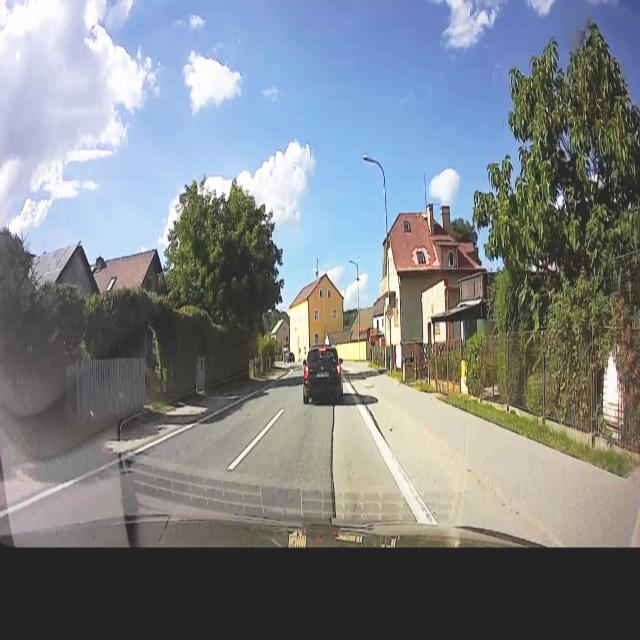Priority road: (385, 302, 395, 321)
